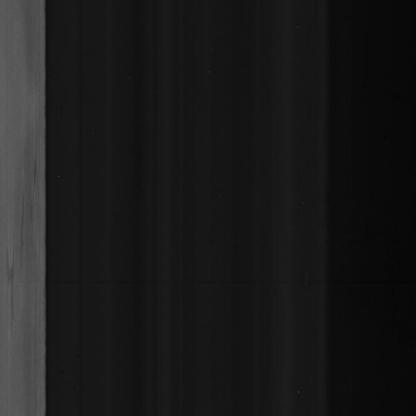silk_spot: (2, 139, 42, 344)
